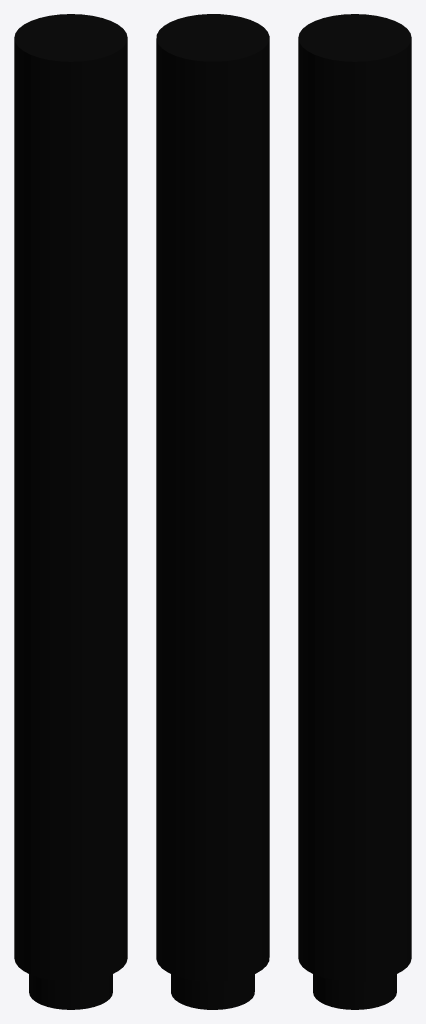
File: marker.obj
3 renders of one model, left to right at view 1: azimuth 90°, elevation 25°; view 2: azimuth 150°, elevation 25°; view 3: azimuth 270°, elevation 25°, orthographic.
Parts seen in each view (by area): view 1: Cylinder; view 2: Cylinder; view 3: Cylinder.
Boxes of the visible parts, x1=… form: Cylinder: x1=14, y1=14, x2=127, y2=1009; Cylinder: x1=156, y1=14, x2=269, y2=1009; Cylinder: x1=298, y1=14, x2=411, y2=1009.
Bounding box in the file's own units: 0.015 × 0.1393 × 0.015.
